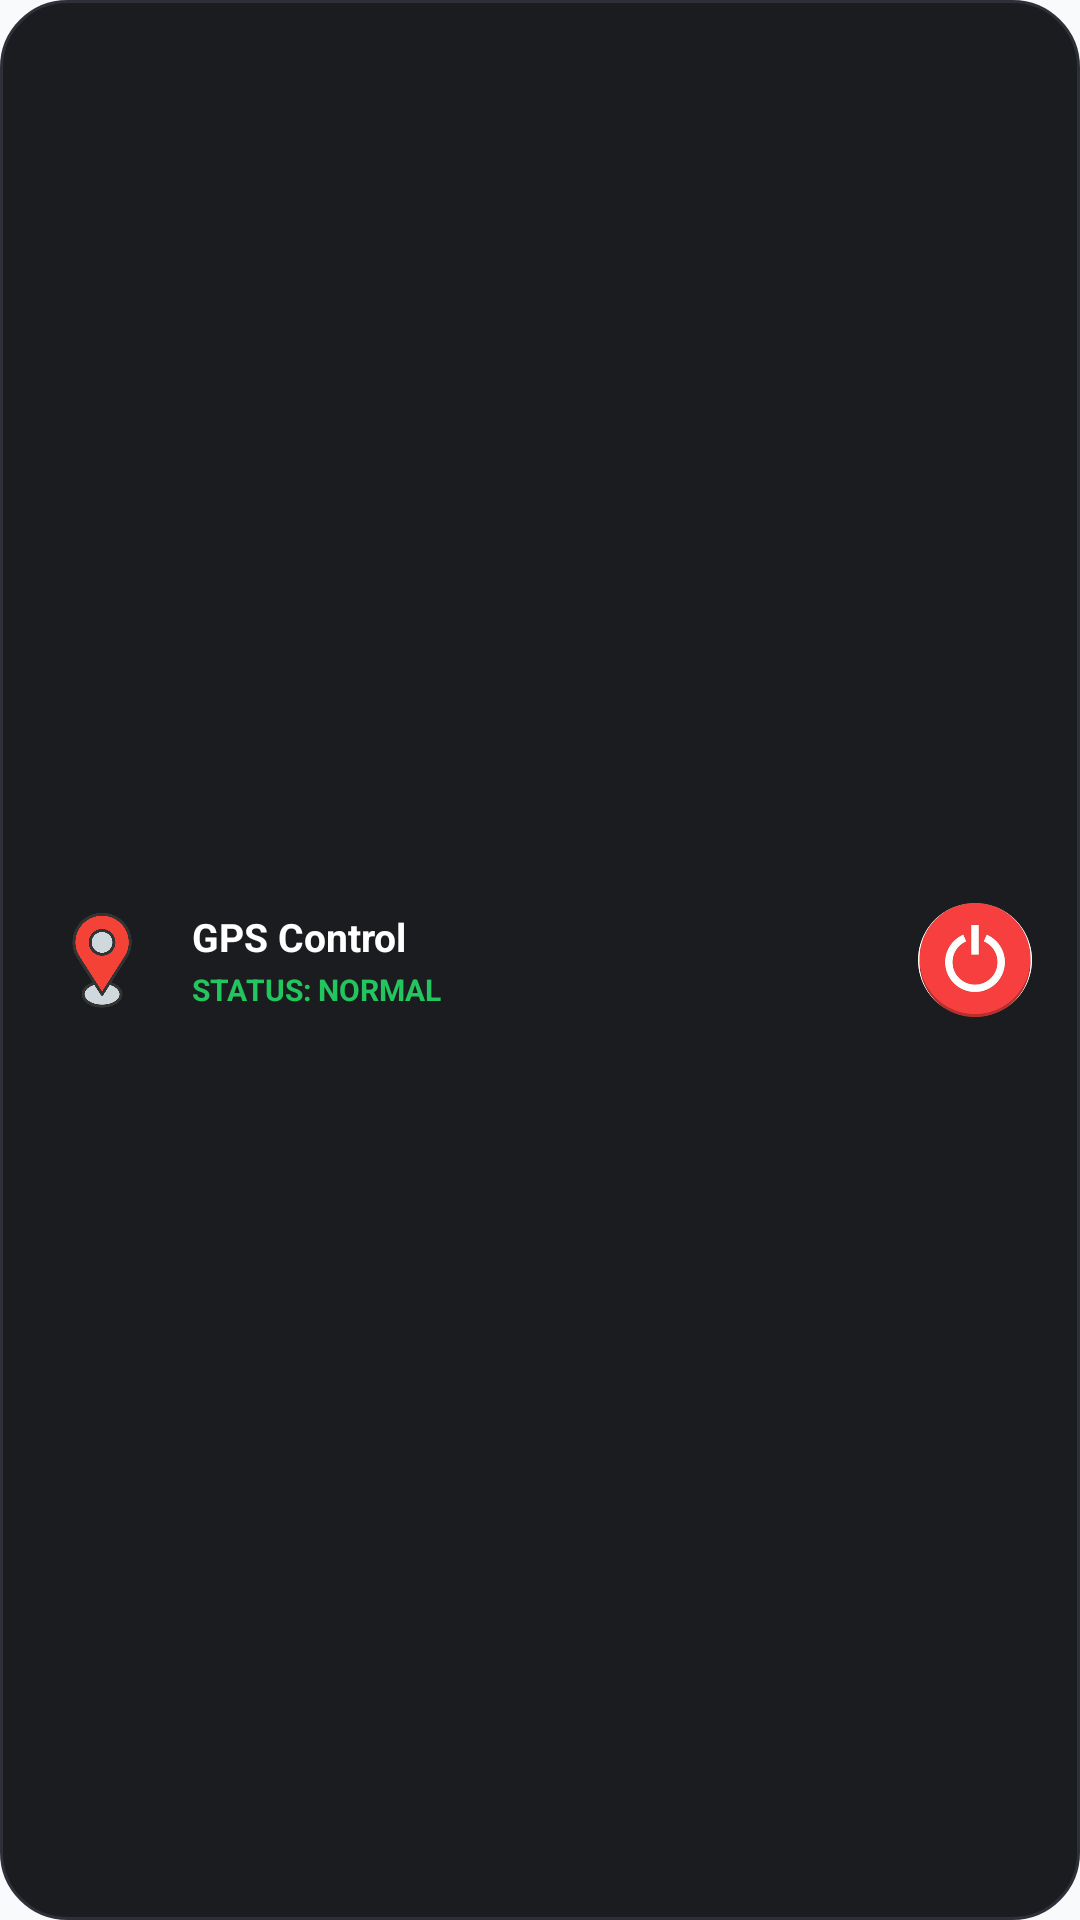

Icon click points for this 1080px x 1920px phone screenshot, format (x,y):
Tombol Kontrol Mesin: (975,960)
